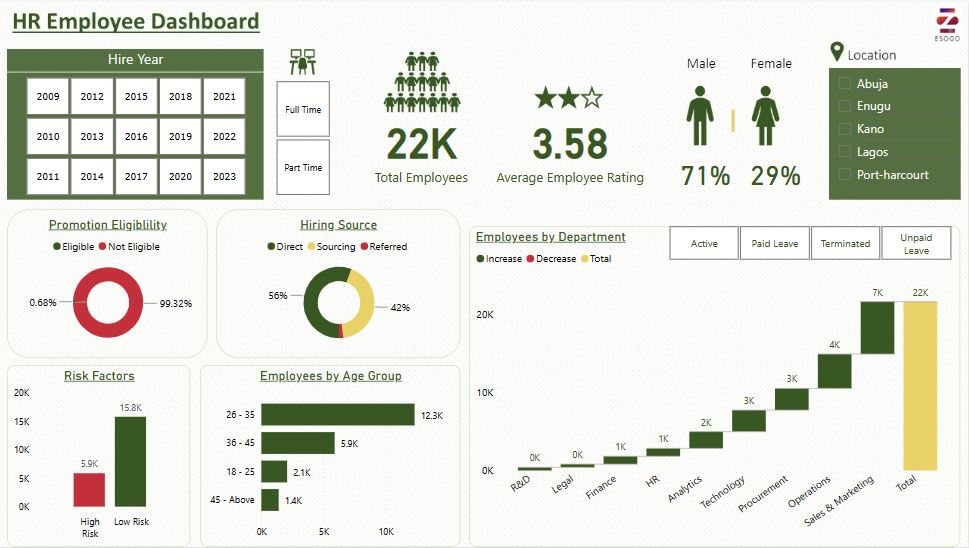

The page's visual inventory and layout, read from the dashboard file:
{"tool":"powerbi","page":{"name":"Page 1","canvas":[1280,720],"ordinal":0},"visuals":[{"type":"card","fields":{"Values":["Measures Table.Avg Emp Rating"]},"box":[649.3,118.8,209.4,145.7],"z":0},{"type":"slicer","title":"Hire Year","fields":{"Values":["Data Main.Hire Year"]},"box":[9.9,62.2,339.5,199.4],"z":1000},{"type":"slicer","fields":{"Values":["Data Main.Location"]},"box":[1094.9,87.7,174,174],"z":2000},{"type":"card","fields":{"Values":["Measures Table.Total Employees"]},"box":[469.6,118.8,175.4,145.7],"z":3000},{"type":"card","fields":{"Values":["Measures Table.% Male"]},"box":[881.3,191,101.8,69.3],"z":4000},{"type":"card","fields":{"Values":["Measures Table.% Female"]},"box":[971.8,191,104.7,69.3],"z":5000},{"type":"donutChart","title":"Hiring Source","fields":{"Category":["Data Main.Hiring Source"],"Y":["CountNonNull(Data Main.Employee ID)"]},"box":[285.7,273,322.5,196.6],"z":6000},{"type":"waterfallChart","title":"Employees by Department","fields":{"Category":["Data Main.Department"],"Y":["Count(Data Main.Employee ID)"]},"box":[619.6,295.6,649.3,424.4],"z":7000},{"type":"slicer","title":"Employee Type","fields":{"Values":["Data Main.Emp Status"]},"box":[858.4,290,421.5,58],"z":8000},{"type":"slicer","fields":{"Values":["Data Main.Emp Type"]},"box":[339.5,97.6,120.2,164.1],"z":9000},{"type":"clusteredBarChart","title":"Employees by Age Group ","fields":{"Y":["CountNonNull(Data Main.Employee ID)"],"Category":["Data Main.Age Mapping"]},"box":[264.5,479.5,343.7,240.5],"z":10000},{"type":"columnChart","title":"Risk Factors","fields":{"Category":["Data Main.Risk Impact"],"Y":["CountNonNull(Data Main.Employee ID)"]},"box":[9.9,479.5,241.9,240.5],"z":11000},{"type":"donutChart","title":"Promotion Eligiblility","fields":{"Category":["Data Main.Promotion Eligible"],"Y":["CountNonNull(Data Main.Employee ID)"]},"box":[9.9,273,264.5,196.6],"z":12000}]}

Visuals, with their boxes in screenshot pixels (x1, y1, x2, y2), scaled from the page's 1280x720 canvas onto the 969x548 screenshot:
card - Measures Table.Avg Emp Rating: l=492, t=90, r=650, b=201
"Hire Year" slicer: l=7, t=47, r=265, b=199
slicer - Data Main.Location: l=829, t=67, r=961, b=199
card - Measures Table.Total Employees: l=356, t=90, r=488, b=201
card - Measures Table.% Male: l=667, t=145, r=744, b=198
card - Measures Table.% Female: l=736, t=145, r=815, b=198
"Hiring Source" donutChart: l=216, t=208, r=460, b=357
"Employees by Department" waterfallChart: l=469, t=225, r=961, b=547
"Employee Type" slicer: l=650, t=221, r=968, b=265
slicer - Data Main.Emp Type: l=257, t=74, r=348, b=199
"Employees by Age Group " clusteredBarChart: l=200, t=365, r=460, b=547
"Risk Factors" columnChart: l=7, t=365, r=191, b=547
"Promotion Eligiblility" donutChart: l=7, t=208, r=208, b=357
